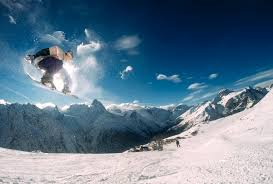snowboard: (34, 76, 79, 100)
